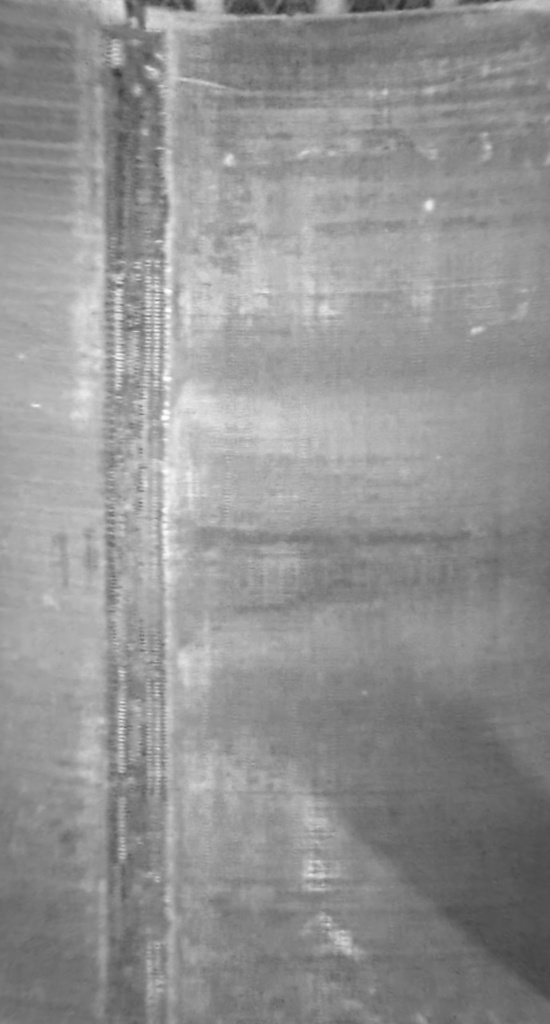splice: (88, 1, 175, 1024)
